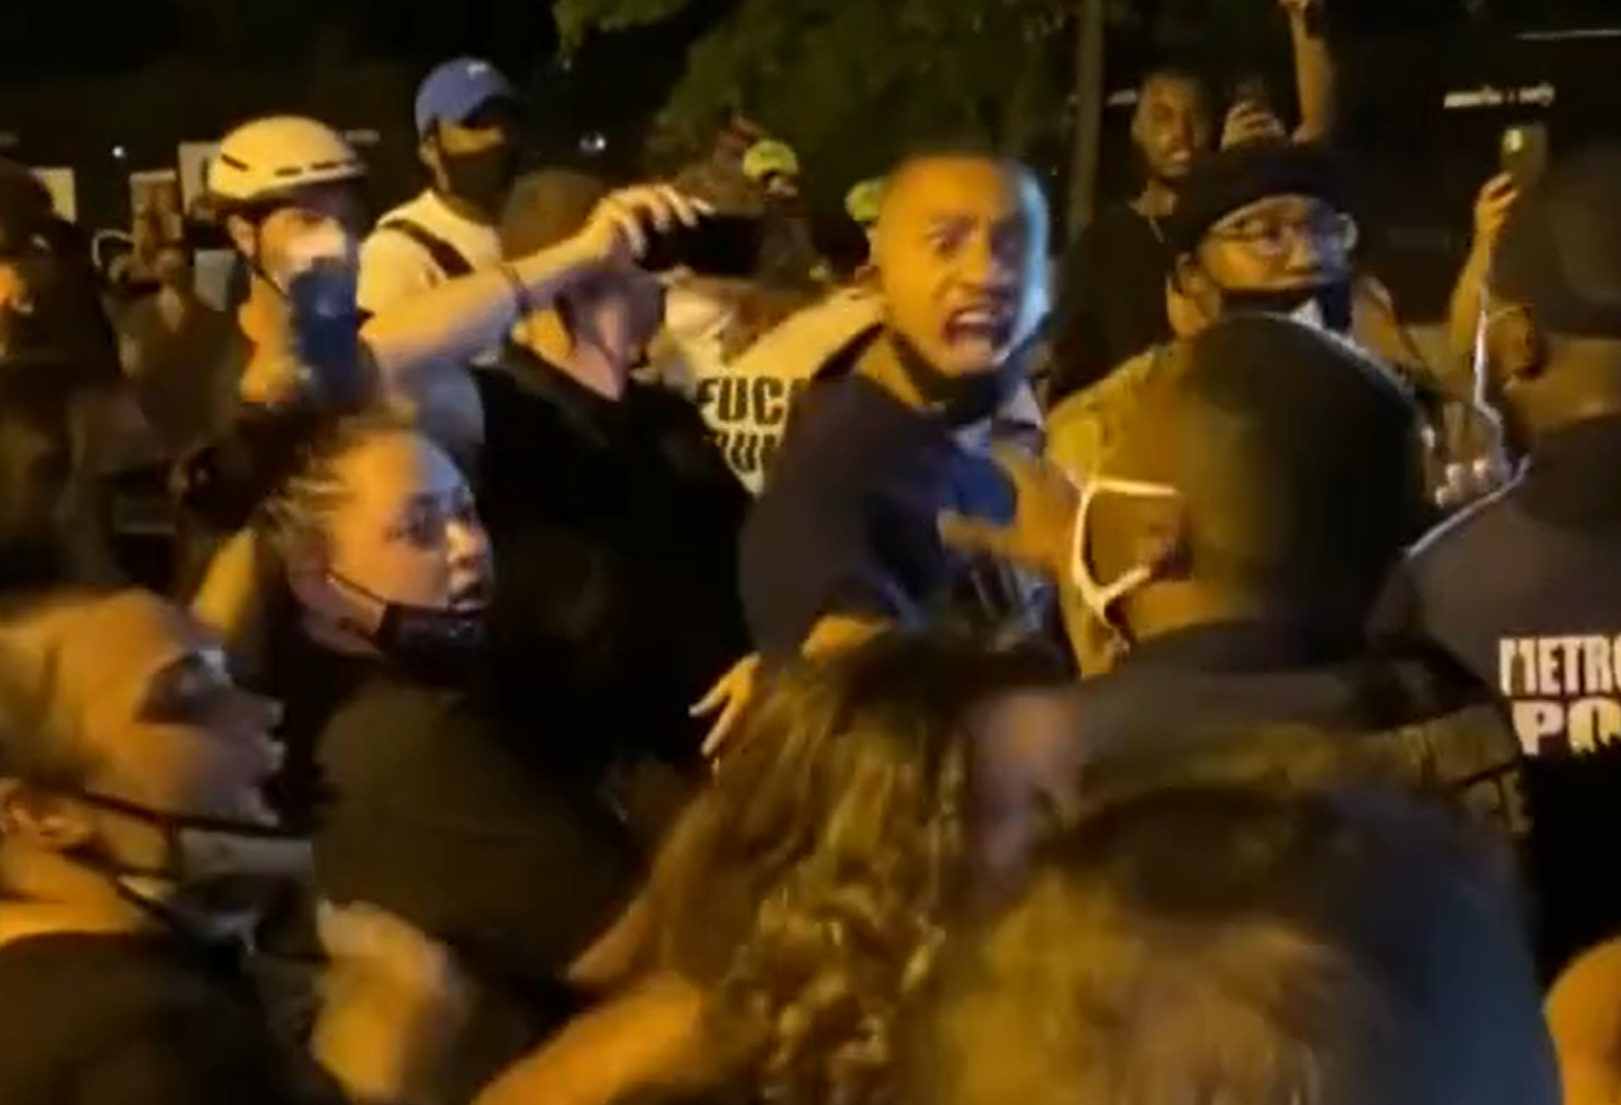mask_weared_incorrect: (1, 590, 344, 970), (278, 461, 514, 681), (853, 181, 1059, 420)
